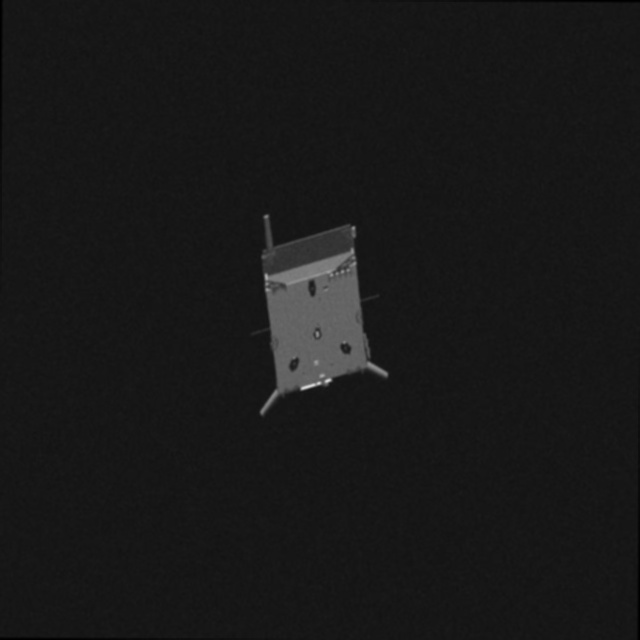medium_debris: (243, 209, 389, 423)
